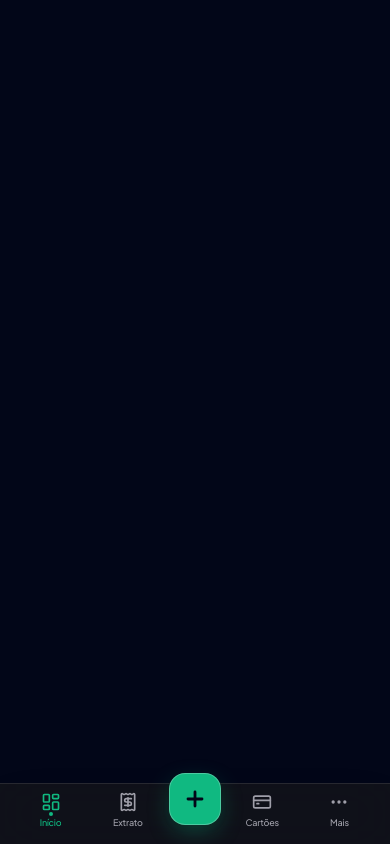
it: <BottomNavBar /> (Barra de Navegação Inferior Mobile-First) › deve fechar o Bottom Sheet ao pressionar Escape
Click the button with aria-label "Mais opções". click: (339, 811)
box: [301,788,378,834]
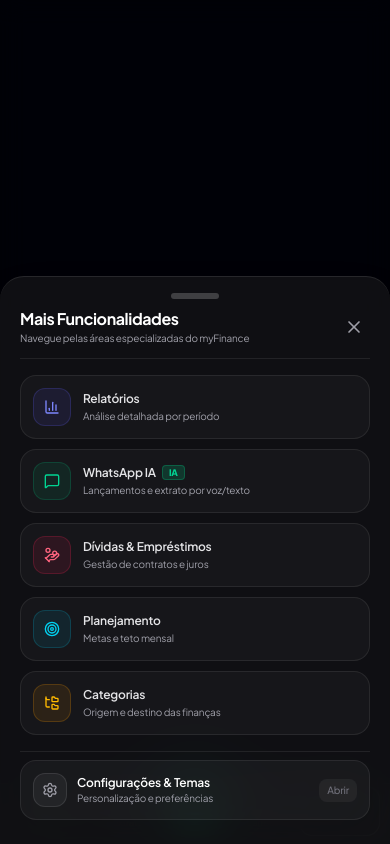
Expected: the heading "Mais Funcionalidades" is shown, [20,308,179,329]
Press Escape
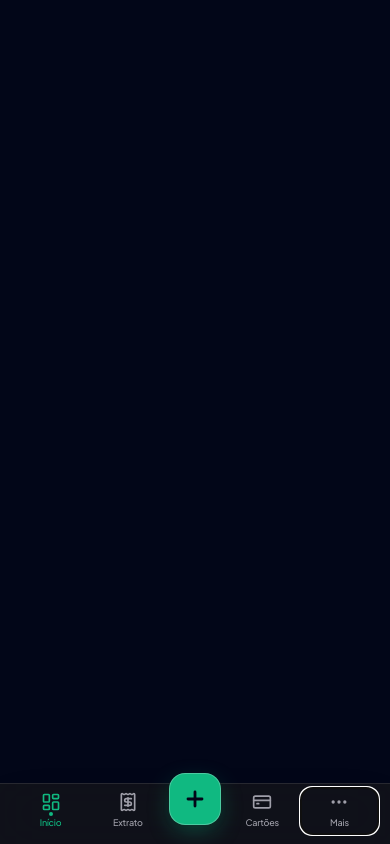
Expected: the heading "Mais Funcionalidades" is gone
